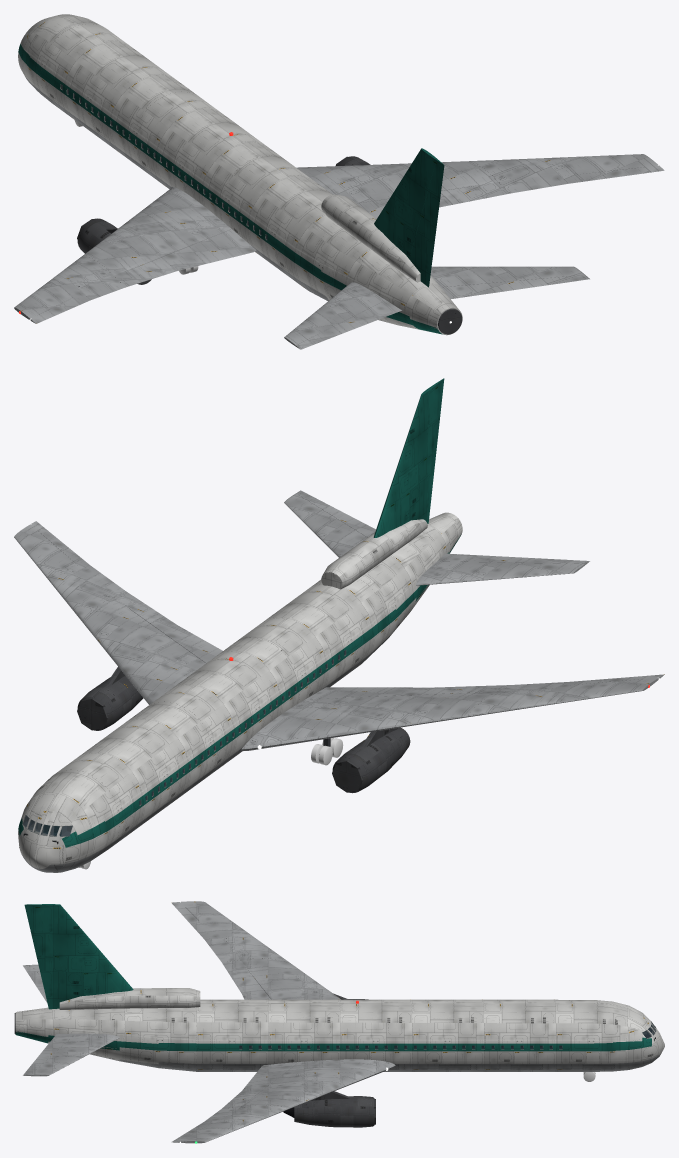
The model's file is widebody.glb.
3 views of the same model, one above another, from view 1: azimuth 30°, elevation 25°; view 2: azimuth 150°, elevation 25°; view 3: azimuth 270°, elevation 25° (orthographic). The views are drawn at different scales.
Parts seen in each view (by area): view 1: fuselage_cabin_fwd.L0, fuselage_centre.L0, fuselage_cabin_aft.L0, fuselage_tail.L0, wing_l_inner.L0, fin.L0, wing_r_inner.L0, intake_hump.L0, wing_l_inner.L1, wing_r_outer.L0, fuselage_nose.L0, flap_l.L0 (+23 smaller); view 2: fuselage_cabin_fwd.L0, fuselage_centre.L0, fuselage_cabin_aft.L0, fuselage_nose.L0, wing_l_inner.L0, fuselage_tail.L0, wing_r_inner.L0, fin.L0, wing_l_inner.L1, intake_hump.L0, tailplane_l.L0, wing_l_outer.L0 (+15 smaller); view 3: fuselage_cabin_fwd.L0, fuselage_cabin_aft.L0, fuselage_centre.L0, fuselage_tail.L0, fuselage_nose.L0, fin.L0, wing_r_inner.L0, intake_hump.L0, nacelle_3.L0, rudder.L0, wing_l_outer.L0, wing_l_inner.L0 (+19 smaller).
Part boxes in pixels (x1,y1,x2,y2): fuselage_cabin_fwd.L0: (40,24,197,170); fuselage_centre.L0: (133,91,284,219); fuselage_cabin_aft.L0: (220,155,337,298); fuselage_tail.L0: (309,224,462,335); wing_l_inner.L0: (83,187,256,272); fin.L0: (374,148,444,287); wing_r_inner.L0: (296,161,489,203); intake_hump.L0: (321,194,420,282); wing_l_inner.L1: (86,188,244,287); wing_r_outer.L0: (469,154,664,179); fuselage_nose.L0: (18,14,101,102); flap_l.L0: (123,229,254,286); fuselage_cabin_fwd.L0: (56,701,212,847); fuselage_centre.L0: (147,638,299,780); fuselage_cabin_aft.L0: (236,578,386,702); fuselage_nose.L0: (18,769,119,872); wing_l_inner.L0: (241,687,489,750); fuselage_tail.L0: (358,512,462,646); wing_r_inner.L0: (83,601,205,704); fin.L0: (373,378,444,537); wing_l_inner.L1: (242,685,510,751); intake_hump.L0: (321,519,427,589); tailplane_l.L0: (416,553,587,585); wing_l_outer.L0: (468,674,664,716); fuselage_cabin_fwd.L0: (448,999,592,1071); fuselage_cabin_aft.L0: (175,999,311,1071); fuselage_centre.L0: (312,999,448,1071); fuselage_tail.L0: (15,1007,174,1069); fuselage_nose.L0: (593,1000,664,1071); fin.L0: (25,904,133,997); wing_r_inner.L0: (246,1059,395,1109); intake_hump.L0: (59,988,200,1009); nacelle_3.L0: (294,1091,374,1127); rudder.L0: (25,908,69,1003); wing_l_outer.L0: (171,901,286,960); wing_l_inner.L0: (245,958,340,999).
Bounding box in the file's own units: 47.5 × 16.18 × 54.35.
21 materials, 14 textured.
